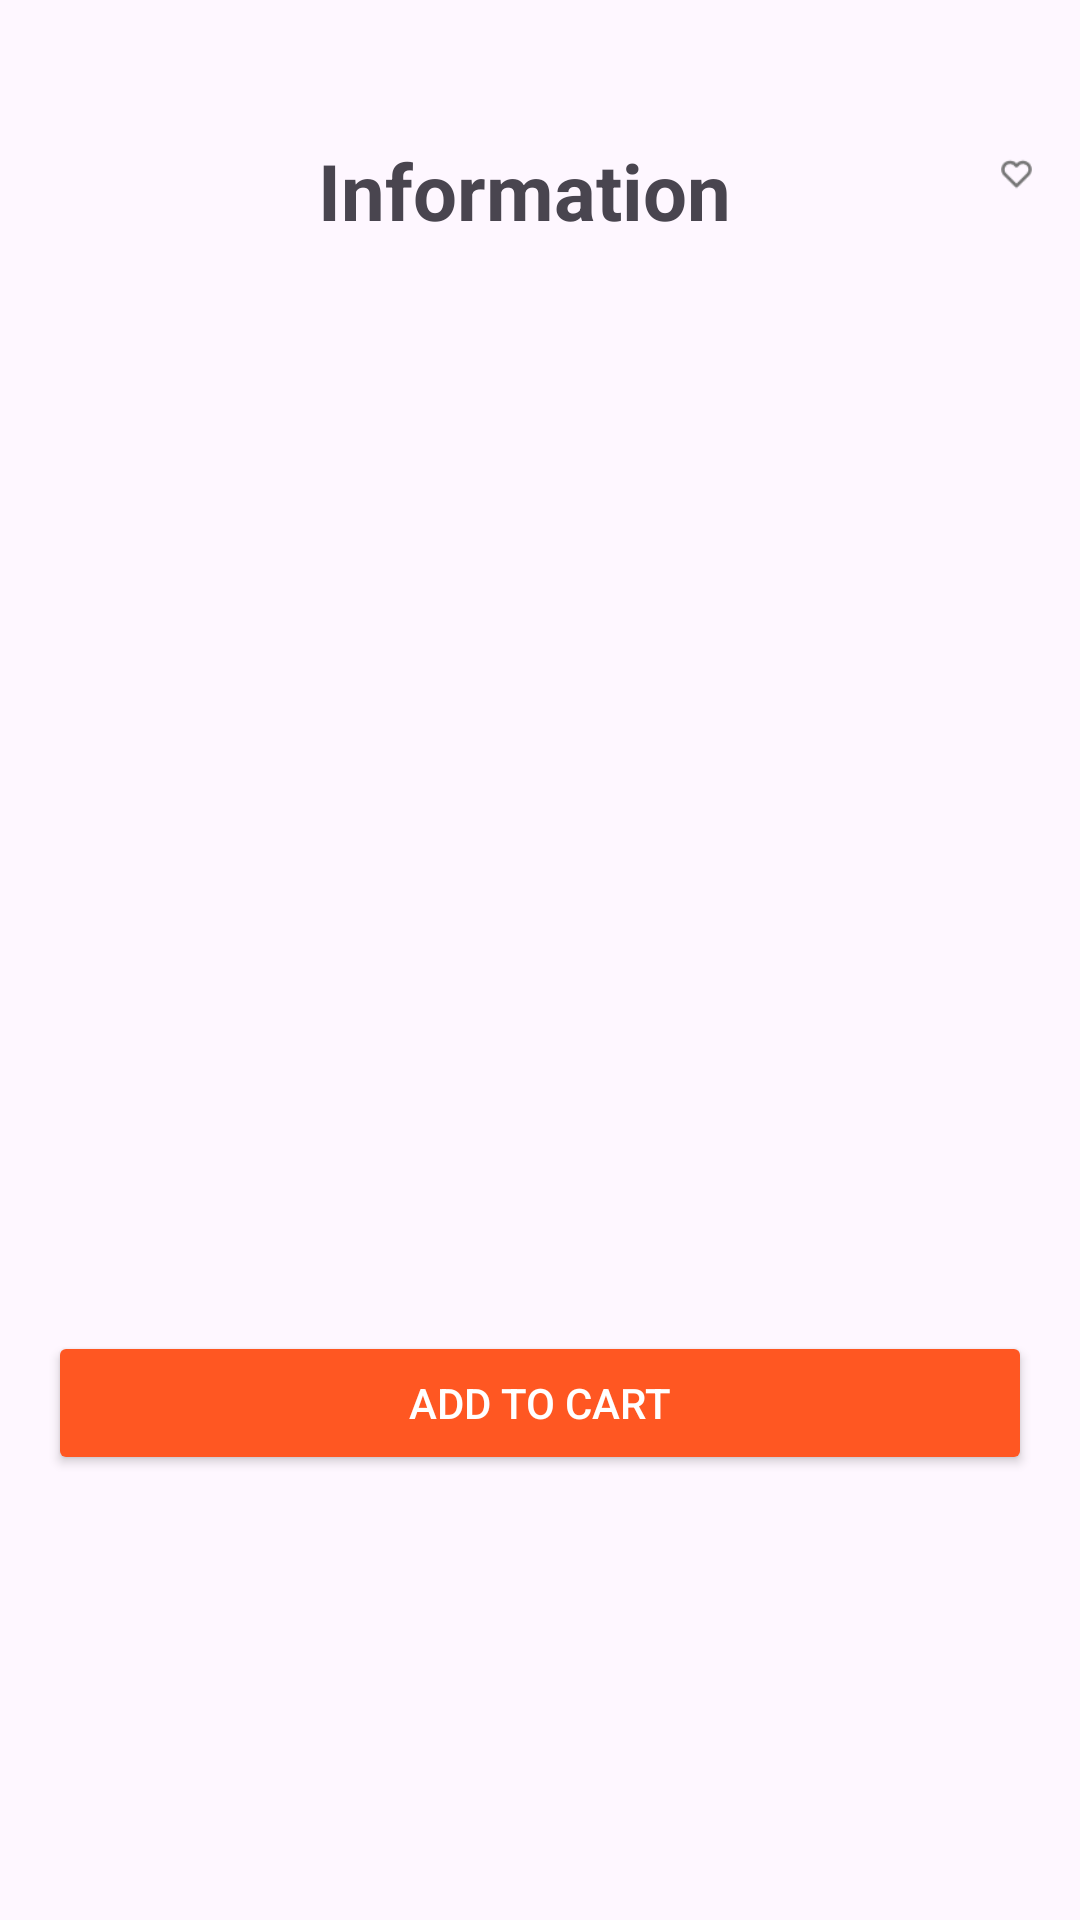

Icons on this 1080*1920 Android screen, each with the point to tap as (x,y):
love: (1016,174)
